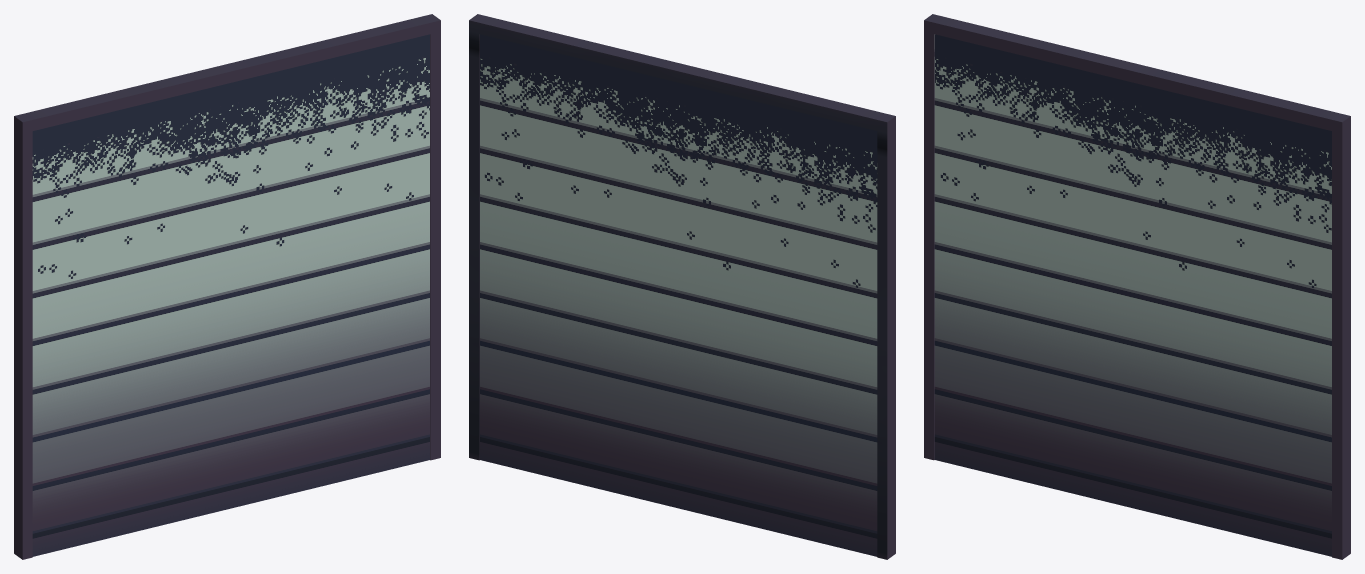
Rendered from wh bigDoor.fbx.
3 views of the same model, side by side, from view 1: azimuth 30°, elevation 25°; view 2: azimuth 150°, elevation 25°; view 3: azimuth 330°, elevation 25° (orthographic).
Parts seen in each view (by area): view 1: big door, door frame.002; view 2: big door, door frame.002; view 3: big door, door frame.002.
Boxes of the visible parts, x1=… form: big door: x1=32, y1=34, x2=429, y2=556; door frame.002: x1=14, y1=14, x2=440, y2=559; big door: x1=480, y1=34, x2=877, y2=556; door frame.002: x1=469, y1=14, x2=895, y2=559; big door: x1=934, y1=34, x2=1331, y2=556; door frame.002: x1=924, y1=14, x2=1350, y2=559.
Size of the model in its own units: 200 by 200 by 7.24.
Materials: 2 (2 with a texture image).
